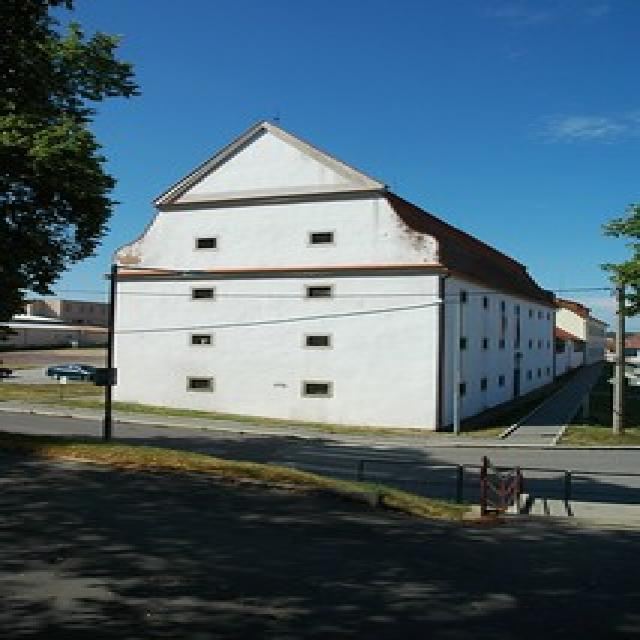Normal_building: (102, 125, 559, 435)
